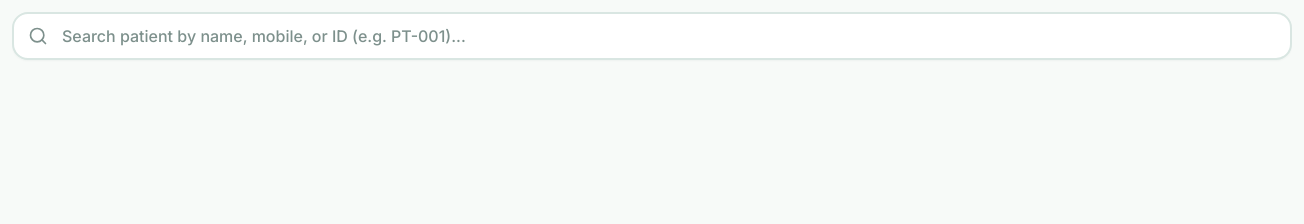
Test case: ClinicRx End-to-End Workflow & Edge Cases Verification - Task 8 › Focus Case 6: Navigation Query Params & Quick Search Dropdown › closes QuickPatientSearch dropdown when Escape key is pressed
// Type search query to open dropdown
Type "Virender" into the search field with placeholder "Search patient by name, mobile, or ID (e.g. PT-001)...".
click(652, 36); type("Virender")  # box [12, 12, 1292, 60]
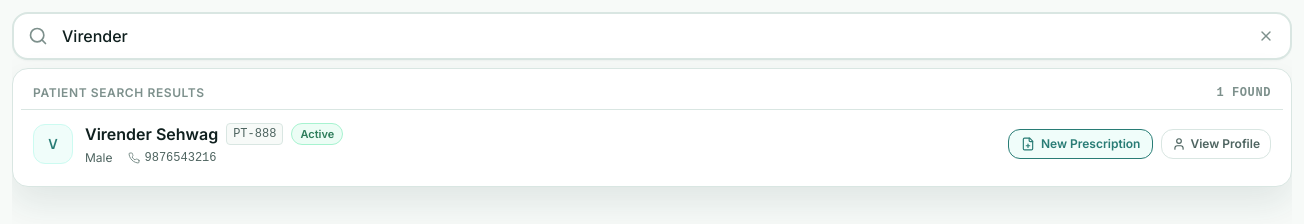
Expected: the text "Patient Search Results" is shown, [33, 85, 205, 101]
Expected: the text "Virender Sehwag" is shown, [85, 122, 218, 146]
// Press Escape key
Press Escape
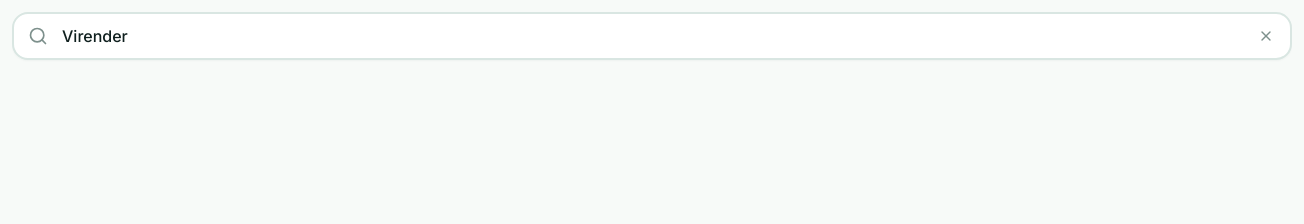
Expected: the text "Patient Search Results" is gone
